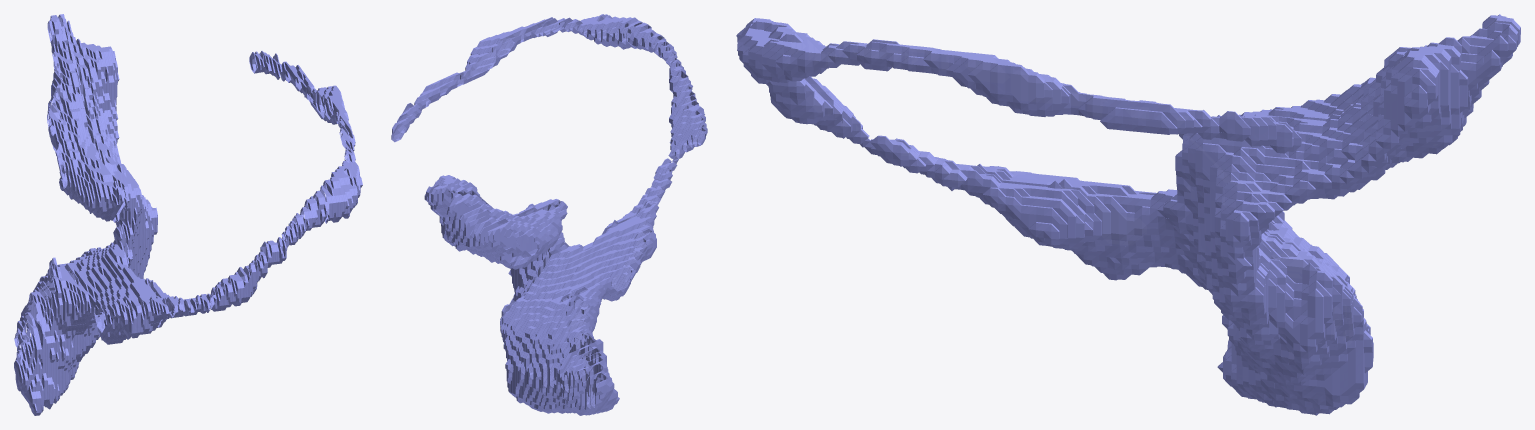
Rendered from SVV_IL1R.gltf.
The picture shows the model from 3 angles, left to right: view 1: azimuth 30°, elevation 25°; view 2: azimuth 150°, elevation 25°; view 3: azimuth 270°, elevation 25°; orthographic projection. The views are drawn at different scales.
Visible parts, largest first — view 1: IL1R; view 2: IL1R; view 3: IL1R.
Part boxes in pixels (x1,y1,x2,y2): IL1R: (14, 14, 362, 415); IL1R: (391, 14, 707, 415); IL1R: (736, 14, 1520, 415).
Size of the model in its own units: 35536 by 44196 by 65416.
